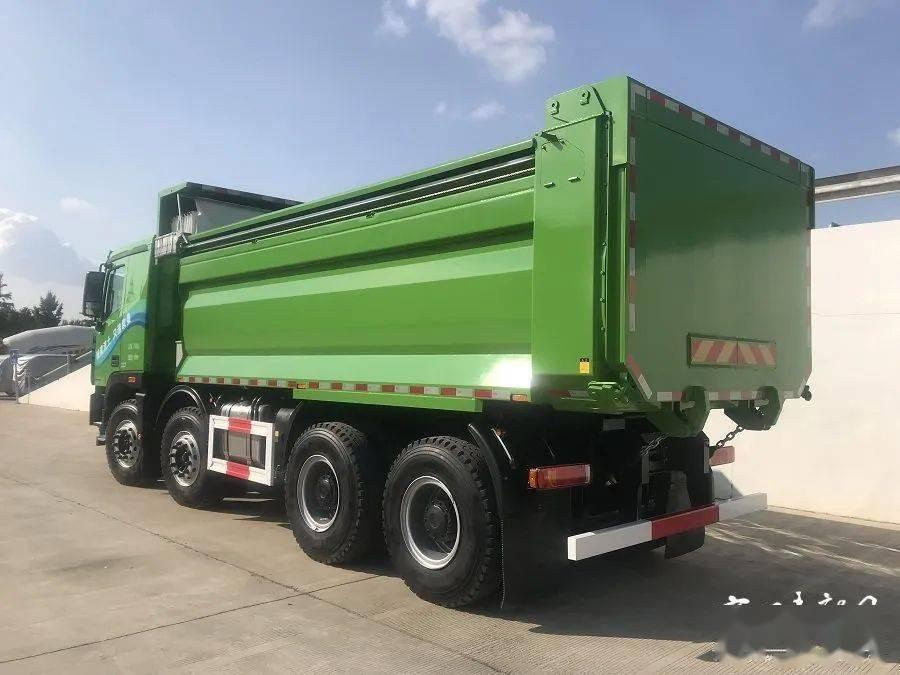truck: (75, 58, 832, 626)
